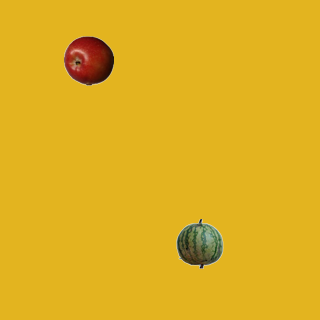Apple Braeburn: (63, 35, 113, 85)
Watermelon: (174, 218, 224, 268)
